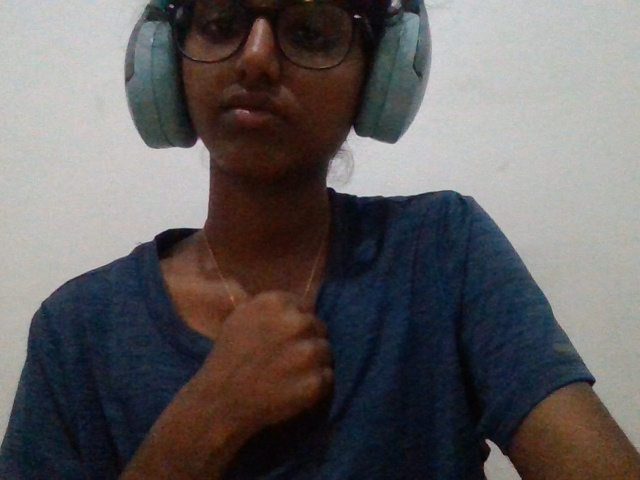Sorry: (143, 269, 358, 474)
